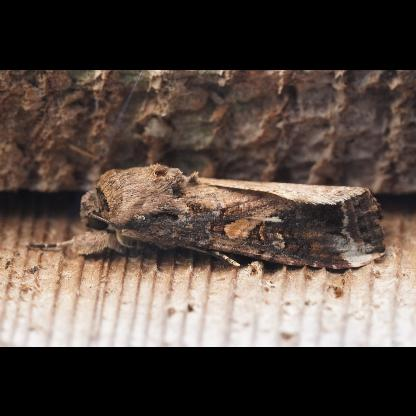Fall Armyworm Moth: (25, 158, 391, 274)
